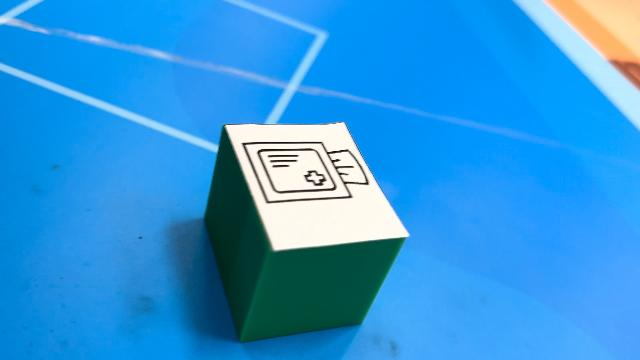napkin: (204, 122, 410, 352)
